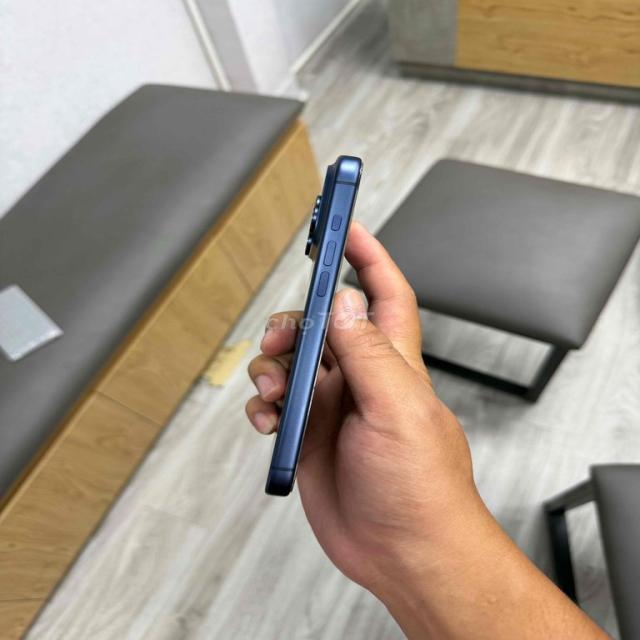gen_17: (252, 146, 370, 500)
